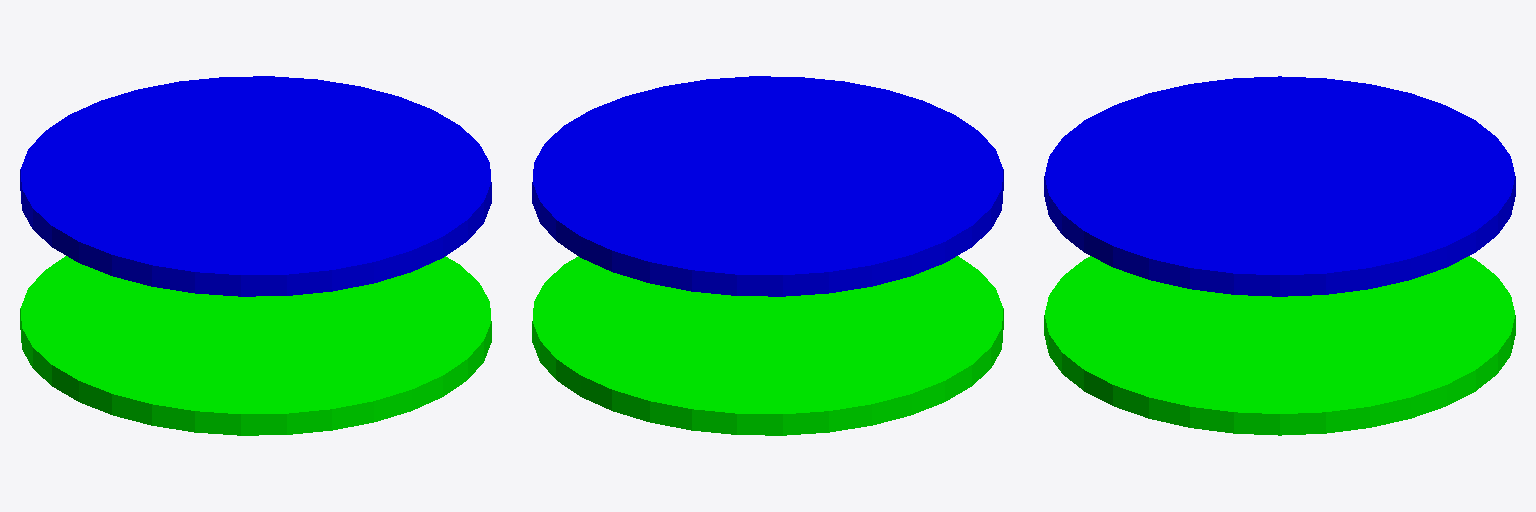
URDF robot description (dual_disks):
<?xml version="1.0" ?>
<robot name="dual_disks">
  <link name="world"/>

  <link name="disk1">
    <visual>
      <origin xyz="0 0 -0.065" rpy="0 0 0"/>
      <geometry>
        <cylinder length="0.02" radius="0.2"/>
      </geometry>
      <material name="green">
        <color rgba="0 1 0 1"/>
      </material>
    </visual>
    <collision>
      <origin xyz="0 0 -0.065" rpy="0 0 0"/>
      <geometry>
        <cylinder length="0.02" radius="0.2"/>
      </geometry>
    </collision>
  </link>

  <link name="disk2">
    <visual>
      <origin xyz="0 0 0.065" rpy="0 0 0"/>
      <geometry>
        <cylinder length="0.02" radius="0.2"/>
      </geometry>
      <material name="blue">
        <color rgba="0 0 1 0.5"/>
      </material>
    </visual>
    <collision>
      <origin xyz="0 0 0.065" rpy="0 0 0"/>
      <geometry>
        <cylinder length="0.02" radius="0.2"/>
      </geometry>
    </collision>
  </link>

  <joint name="world_to_disk1" type="fixed">
    <parent link="world"/>
    <child link="disk1"/>
    <origin xyz="0 0 0" rpy="0 0 0"/>
  </joint>

  <joint name="world_to_disk2" type="fixed">
    <parent link="world"/>
    <child link="disk2"/>
    <origin xyz="0 0 0" rpy="0 0 0"/>
  </joint>
</robot>

--- What the picture shows (computed from the rendered views, not written in the file) ---
Views: 3 orthographic renders of the robot side by side, from view 1: azimuth 30°, elevation 25°; view 2: azimuth 150°, elevation 25°; view 3: azimuth 270°, elevation 25°.
Robot: dual_disks — 3 links, 2 joints (2 fixed); root link world; default pose: all joints at 0.
Visible links, largest first — view 1: disk2, disk1; view 2: disk2, disk1; view 3: disk2, disk1.
Link boxes in pixels (x1,y1,x2,y2): disk2: (20,76,491,296); disk1: (20,256,491,435); disk2: (532,76,1003,296); disk1: (532,256,1003,435); disk2: (1044,76,1515,296); disk1: (1044,256,1515,435).
Bounding box of the posed robot: 0.4 × 0.4 × 0.15 m (x, y, z).
Geometry: primitives only (box / cylinder / sphere), no mesh files.
